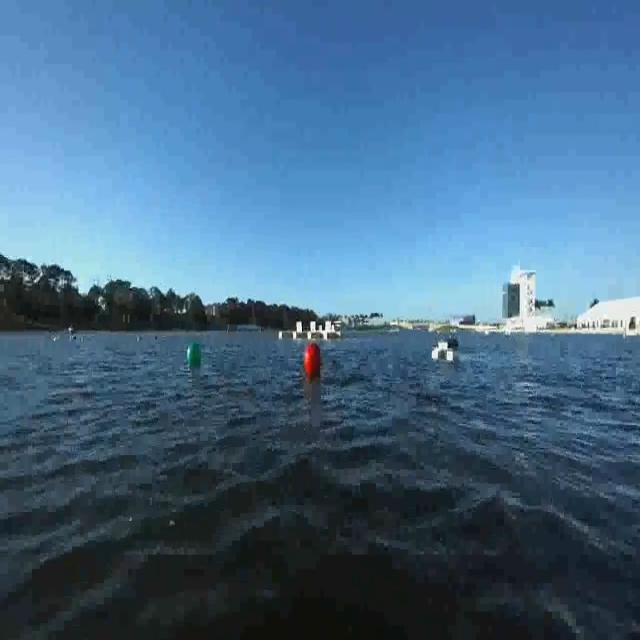green-buoy: (189, 342, 203, 367)
red-buoy: (304, 344, 320, 376)
